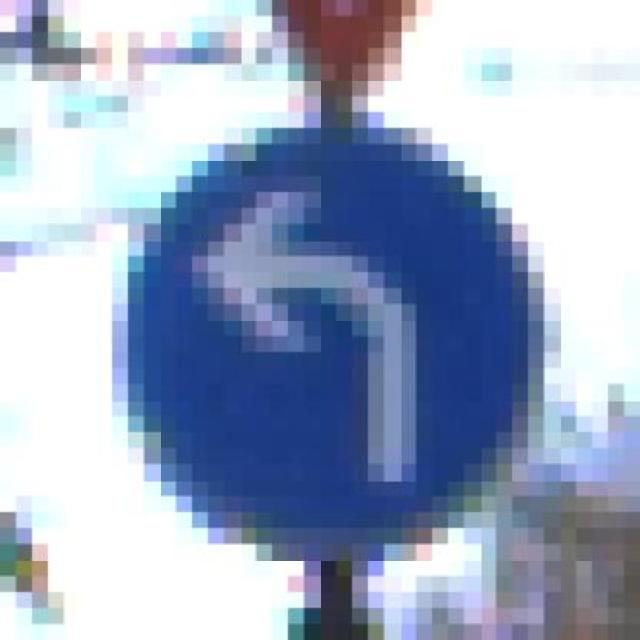Turn left ahead: (79, 112, 576, 576)
